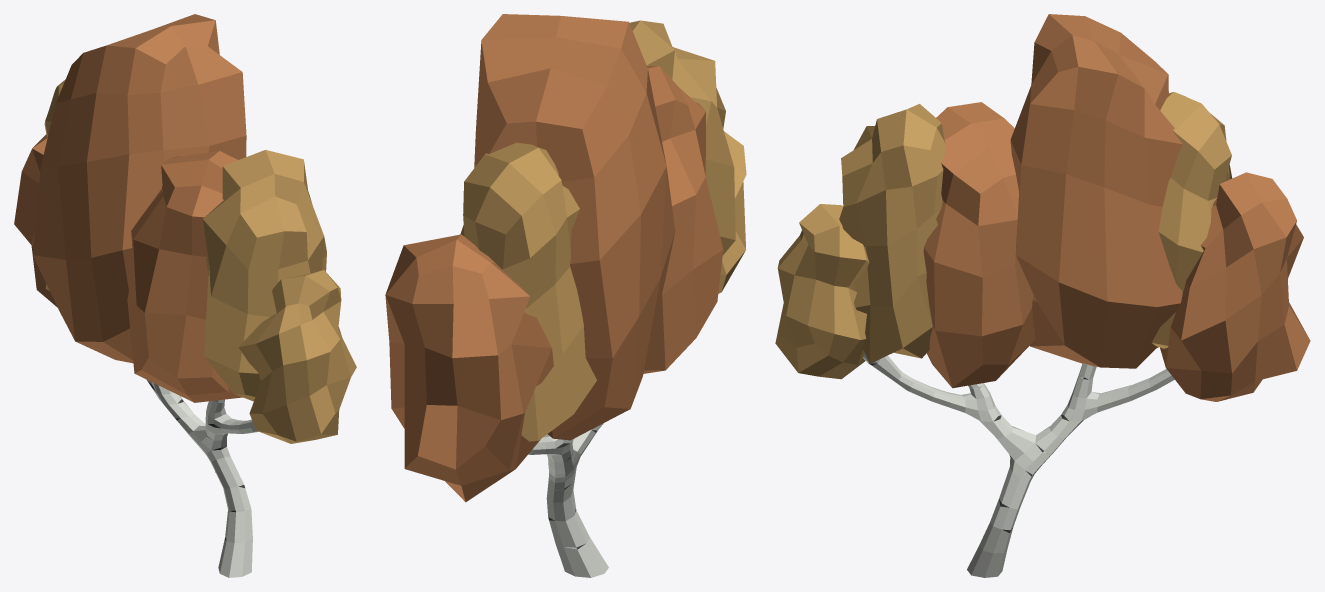
The model's file is birchtree_autumn_4.glb.
3 renders of one model, left to right at view 1: azimuth 30°, elevation 25°; view 2: azimuth 150°, elevation 25°; view 3: azimuth 270°, elevation 25°, orthographic. The views are drawn at different scales.
Visible parts, largest first — view 1: BirchTree_Autumn_4; view 2: BirchTree_Autumn_4; view 3: BirchTree_Autumn_4.
Part boxes in pixels (x1,y1,x2,y2): BirchTree_Autumn_4: (14,14,356,577); BirchTree_Autumn_4: (385,14,746,577); BirchTree_Autumn_4: (775,14,1310,577).
Bounding box in the file's own units: 2.77 × 8.54 × 7.89.
